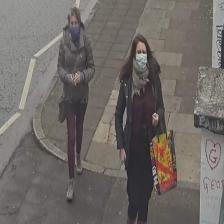person: (114, 35, 166, 224), (57, 7, 95, 198)
